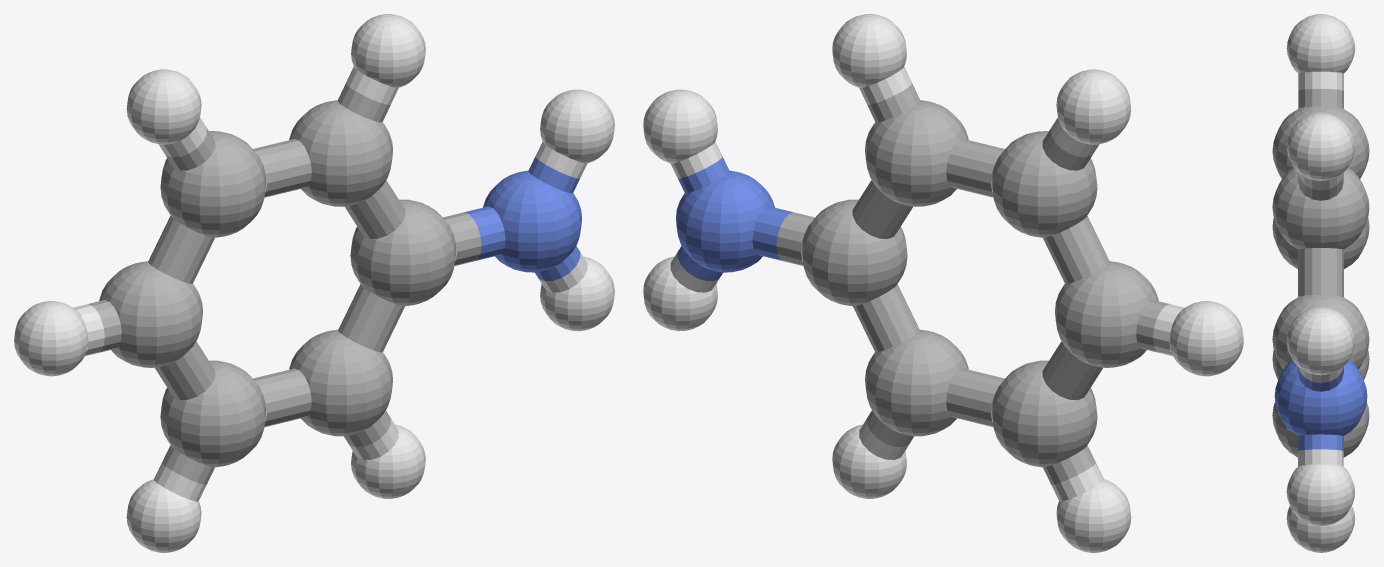
File: ANILINE.fbx
3 views of the same model, side by side, from view 1: azimuth 30°, elevation 25°; view 2: azimuth 150°, elevation 25°; view 3: azimuth 270°, elevation 25° (orthographic). The views are drawn at different scales.
Parts seen in each view (by area): view 1: ShapeSphere.003, ShapeSphere.006, ShapeSphere.002, ShapeSphere.005, ShapeSphere.004, ShapeSphere.001, ShapeSphere, ShapeSphere.009, ShapeSphere.011, ShapeSphere.007, ShapeSphere.013, ShapeSphere.010 (+23 smaller); view 2: ShapeSphere.003, ShapeSphere.006, ShapeSphere.002, ShapeSphere.004, ShapeSphere.001, ShapeSphere.005, ShapeSphere, ShapeSphere.009, ShapeSphere.011, ShapeSphere.007, ShapeSphere.013, ShapeSphere.010 (+23 smaller); view 3: ShapeSphere.002, ShapeSphere, ShapeSphere.013, ShapeSphere.007, ShapeSphere.012, ShapeSphere.009, ShapeSphere.001, ShapeSphere.004, ShapeCylinder.006, ShapeSphere.008, ShapeSphere.003, ShapeSphere.006 (+9 smaller).
Part boxes in pixels (x1,y1,x2,y2): ShapeSphere.003: [289, 329, 392, 436]; ShapeSphere.006: [99, 261, 202, 367]; ShapeSphere.002: [289, 100, 392, 206]; ShapeSphere.005: [160, 360, 266, 467]; ShapeSphere.004: [160, 131, 266, 237]; ShapeSphere.001: [350, 199, 456, 306]; ShapeSphere: [483, 170, 581, 272]; ShapeSphere.009: [126, 69, 201, 144]; ShapeSphere.011: [14, 301, 88, 376]; ShapeSphere.007: [351, 14, 425, 87]; ShapeSphere.013: [540, 89, 614, 163]; ShapeSphere.010: [126, 479, 201, 552]; ShapeSphere.003: [865, 329, 968, 436]; ShapeSphere.006: [1055, 261, 1158, 367]; ShapeSphere.002: [865, 100, 968, 206]; ShapeSphere.004: [991, 131, 1097, 237]; ShapeSphere.001: [801, 199, 907, 306]; ShapeSphere.005: [991, 360, 1097, 467]; ShapeSphere: [676, 170, 774, 272]; ShapeSphere.009: [1056, 69, 1131, 144]; ShapeSphere.011: [1169, 301, 1243, 376]; ShapeSphere.007: [832, 14, 906, 87]; ShapeSphere.013: [643, 89, 717, 163]; ShapeSphere.010: [1056, 479, 1131, 552]; ShapeSphere.002: [1272, 168, 1369, 249]; ShapeSphere: [1274, 360, 1367, 436]; ShapeSphere.013: [1286, 307, 1354, 375]; ShapeSphere.007: [1286, 112, 1355, 180]; ShapeSphere.012: [1286, 464, 1354, 526]; ShapeSphere.009: [1286, 14, 1355, 73]; ShapeSphere.001: [1272, 295, 1369, 369]; ShapeSphere.004: [1272, 106, 1369, 178]; ShapeCylinder.006: [1298, 248, 1343, 296]; ShapeSphere.008: [1286, 506, 1355, 552]; ShapeSphere.003: [1272, 402, 1369, 457]; ShapeSphere.006: [1272, 217, 1369, 269].
Size of the model in its own units: 651 by 503 by 102.
